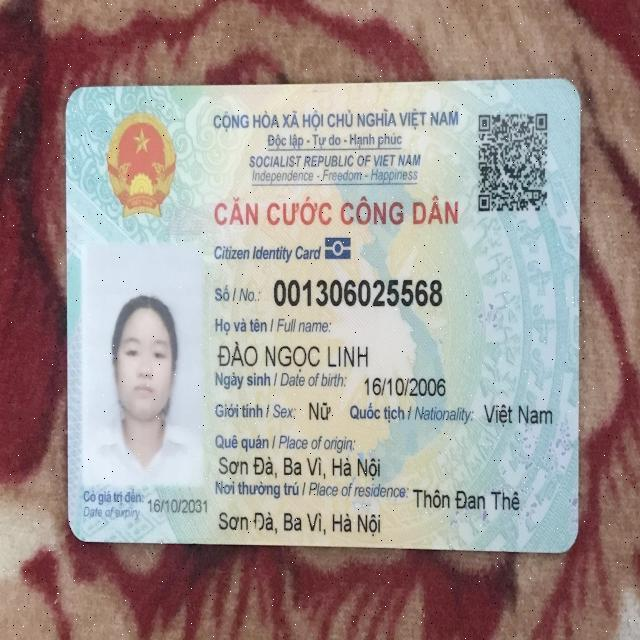current_place: (211, 508, 384, 538), (415, 488, 526, 512)
dob: (360, 371, 450, 400)
expire_date: (147, 496, 208, 517)
gender: (307, 397, 332, 426)
id: (269, 273, 443, 309)
name: (217, 334, 370, 369)
nationality: (480, 400, 555, 426)
origin_place: (214, 454, 384, 483)
